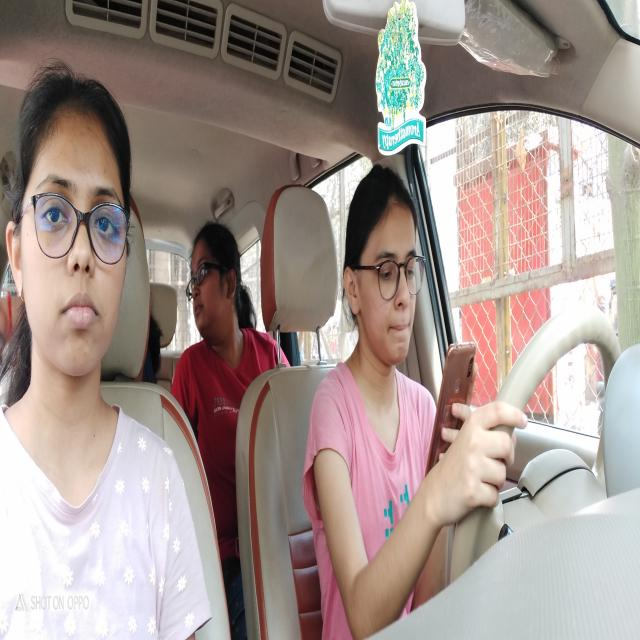mobile: (426, 332, 480, 473)
person: (8, 68, 133, 391), (341, 164, 426, 374), (186, 215, 243, 335)
